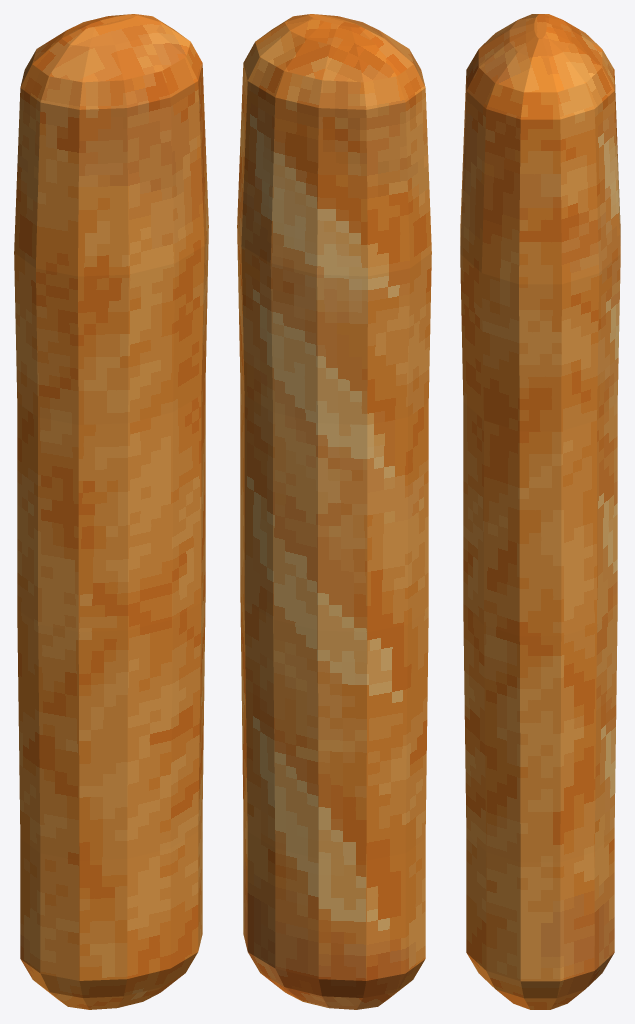
File: baguette.gltf
The picture shows the model from 3 angles, left to right: view 1: azimuth 30°, elevation 25°; view 2: azimuth 150°, elevation 25°; view 3: azimuth 270°, elevation 25°; orthographic projection.
Parts seen in each view (by area): view 1: cylinder; view 2: cylinder; view 3: cylinder.
Part boxes in pixels (bbox=[...]): cylinder: bbox=[14, 14, 208, 1009]; cylinder: bbox=[237, 14, 431, 1009]; cylinder: bbox=[460, 14, 620, 1009].
Bounding box in the file's own units: 1 × 5.36 × 0.8125.
Materials: 1 (1 with a texture image).
